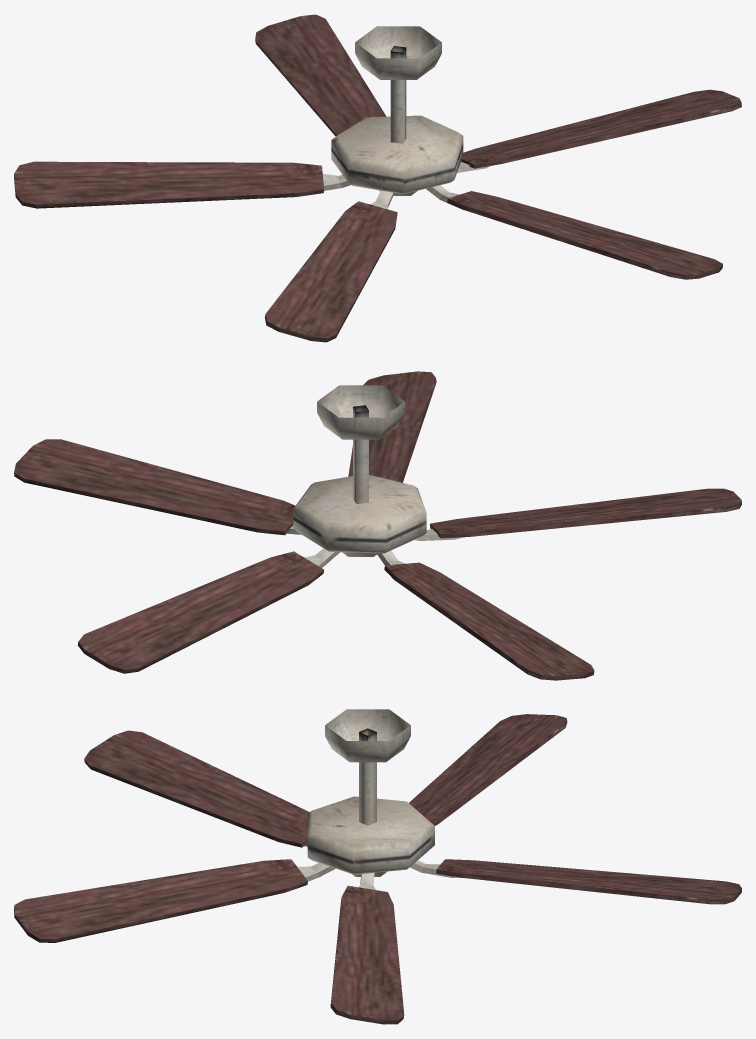
File: fan.gltf
3 renders of one model, top to bottom at view 1: azimuth 30°, elevation 25°; view 2: azimuth 150°, elevation 25°; view 3: azimuth 270°, elevation 25°, orthographic. The views are drawn at different scales.
Visible parts, largest first — view 1: Ceiling_Fan_Blades, Ceiling_Fan; view 2: Ceiling_Fan_Blades, Ceiling_Fan; view 3: Ceiling_Fan_Blades, Ceiling_Fan.
Boxes of the visible parts, <box> form: Ceiling_Fan_Blades: <box>14,14,741,342</box>; Ceiling_Fan: <box>331,26,463,195</box>; Ceiling_Fan_Blades: <box>14,371,741,680</box>; Ceiling_Fan: <box>293,385,426,556</box>; Ceiling_Fan_Blades: <box>14,714,741,1024</box>; Ceiling_Fan: <box>307,709,434,876</box>.
Size of the model in its own units: 2.53 by 0.5487 by 2.54.
1 material, 1 textured.
